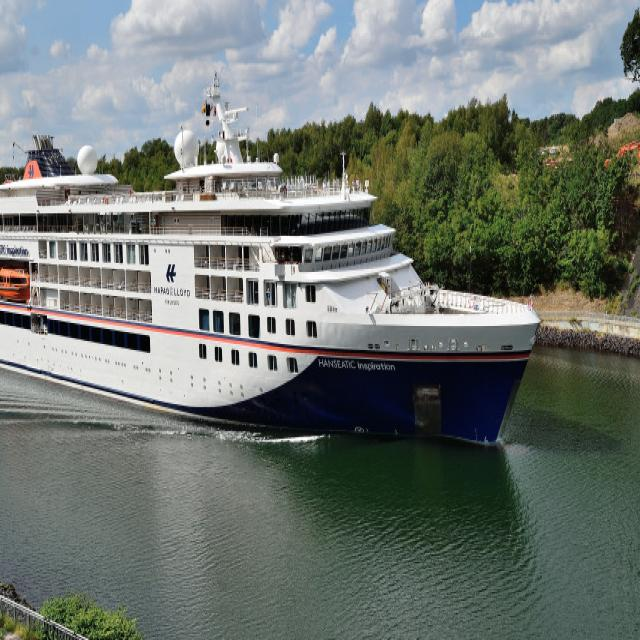cruises: (1, 78, 546, 456)
